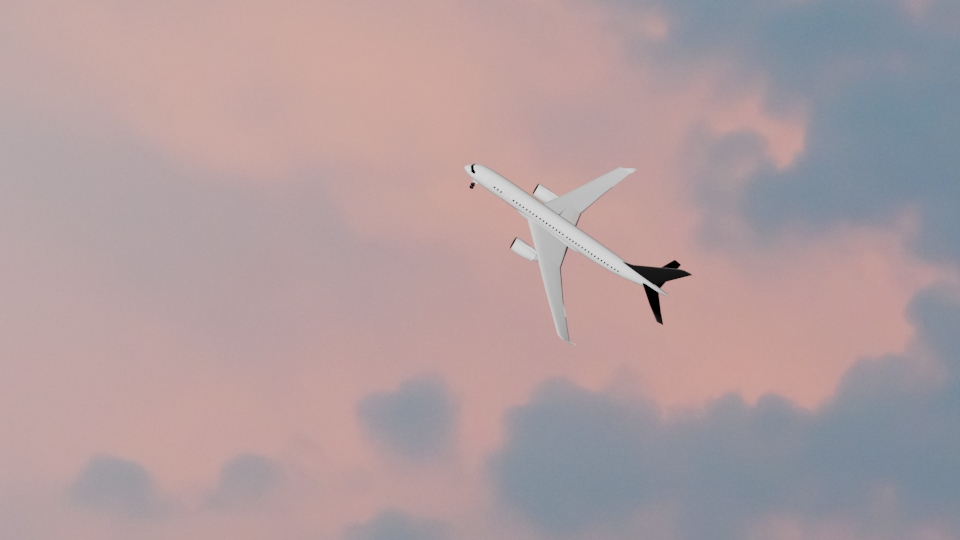plane: (463, 158, 693, 348)
